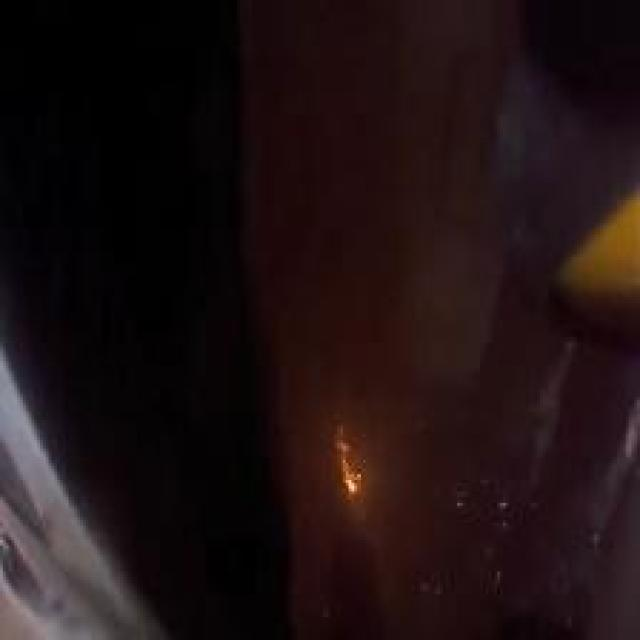fire: (330, 426, 367, 501)
